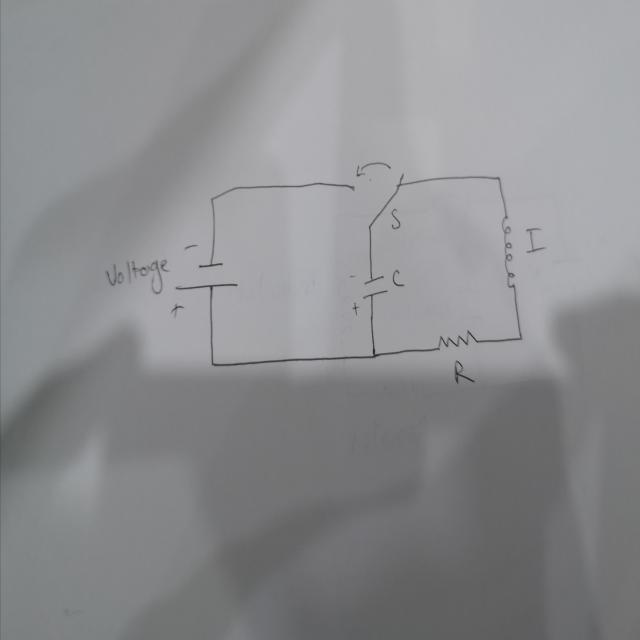capacitor: (348, 272, 389, 317)
inductor: (500, 212, 518, 293)
junction: (514, 328, 526, 344), (206, 192, 216, 207), (368, 347, 378, 362), (208, 356, 217, 370), (494, 172, 503, 185)
resistor: (434, 329, 478, 350)
source: (173, 258, 240, 296)
switch: (350, 158, 405, 232)
text: (104, 253, 171, 294), (452, 358, 475, 386), (526, 225, 546, 252), (390, 266, 405, 290), (388, 206, 401, 228)
